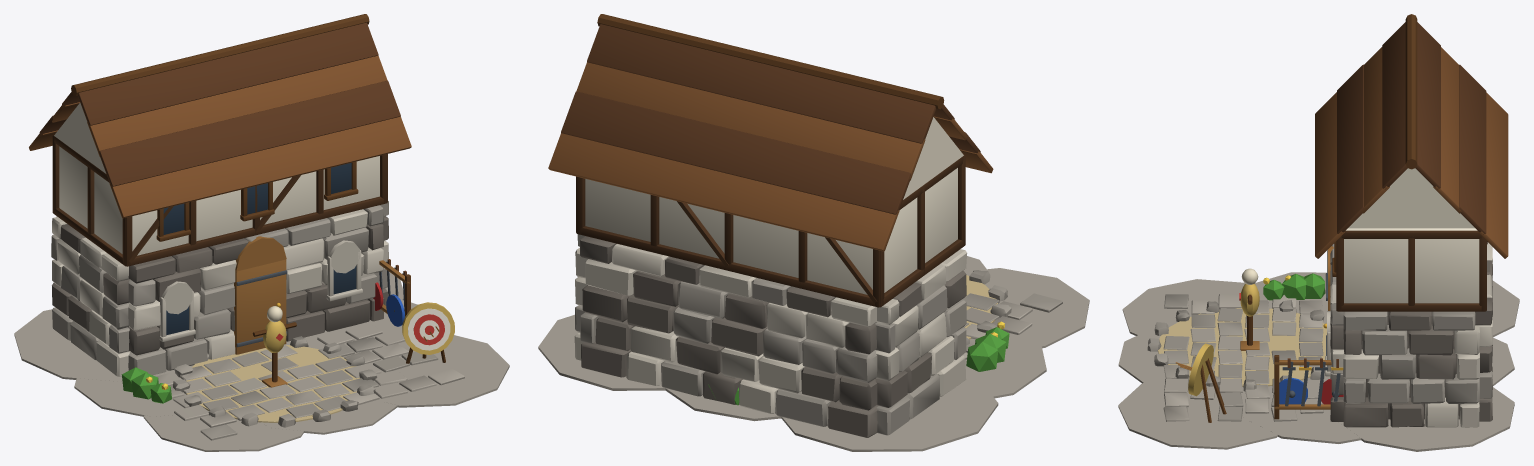
The model's file is koszary_poz12.glb.
The picture shows the model from 3 angles, left to right: view 1: azimuth 30°, elevation 25°; view 2: azimuth 150°, elevation 25°; view 3: azimuth 270°, elevation 25°; orthographic projection. The views are drawn at different scales.
Visible parts, largest first — view 1: koszary_poz12; view 2: koszary_poz12; view 3: koszary_poz12.
Part boxes in pixels (x1,y1,x2,y2): koszary_poz12: (14, 14, 509, 451); koszary_poz12: (538, 14, 1089, 451); koszary_poz12: (1118, 14, 1519, 451).
Bounding box in the file's own units: 8.83 × 6.35 × 8.2.
